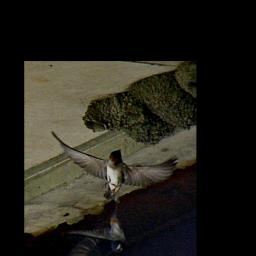Swallow: (49, 129, 181, 206)
